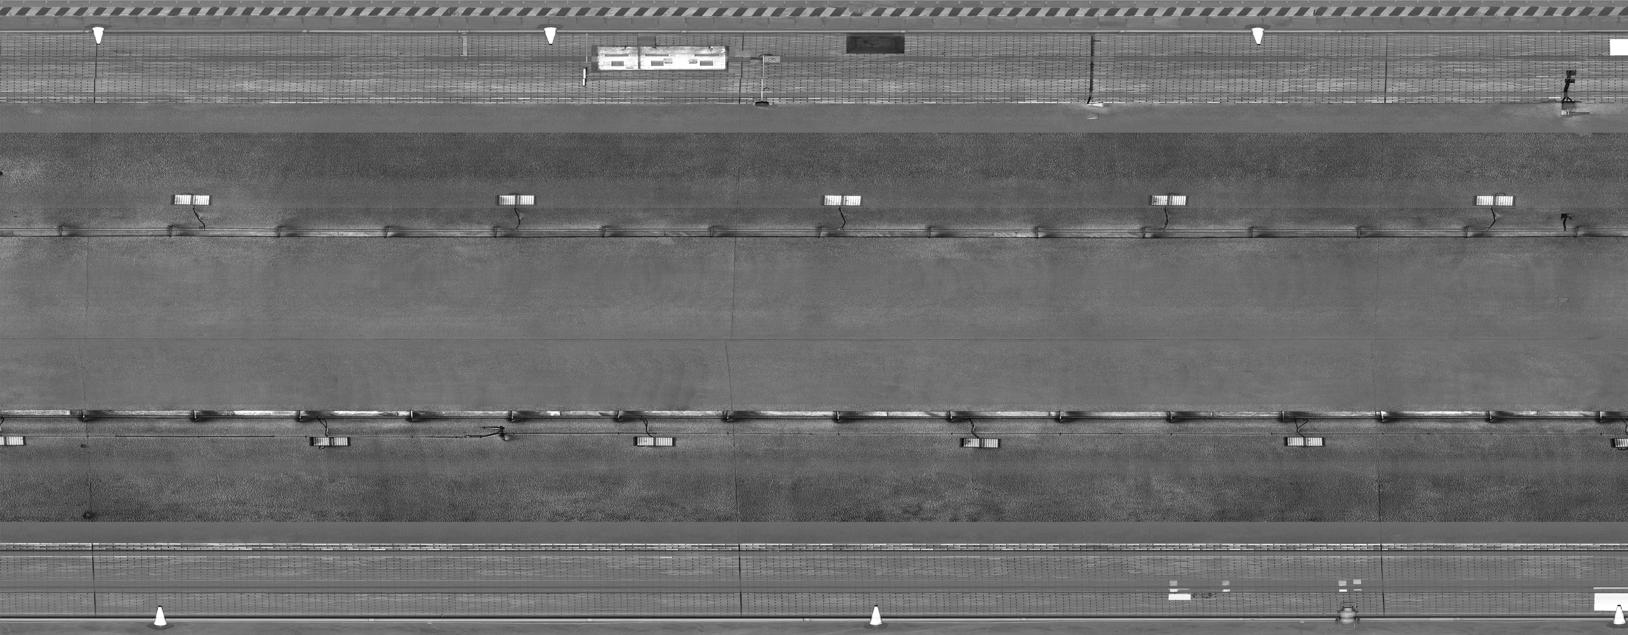light: (626, 431, 681, 453), (950, 432, 1005, 454), (1276, 431, 1331, 453), (488, 188, 543, 210), (814, 188, 869, 210), (1140, 187, 1195, 209), (1463, 187, 1518, 209), (307, 429, 352, 452), (168, 186, 213, 209), (1, 427, 36, 451), (1603, 432, 1628, 450)
